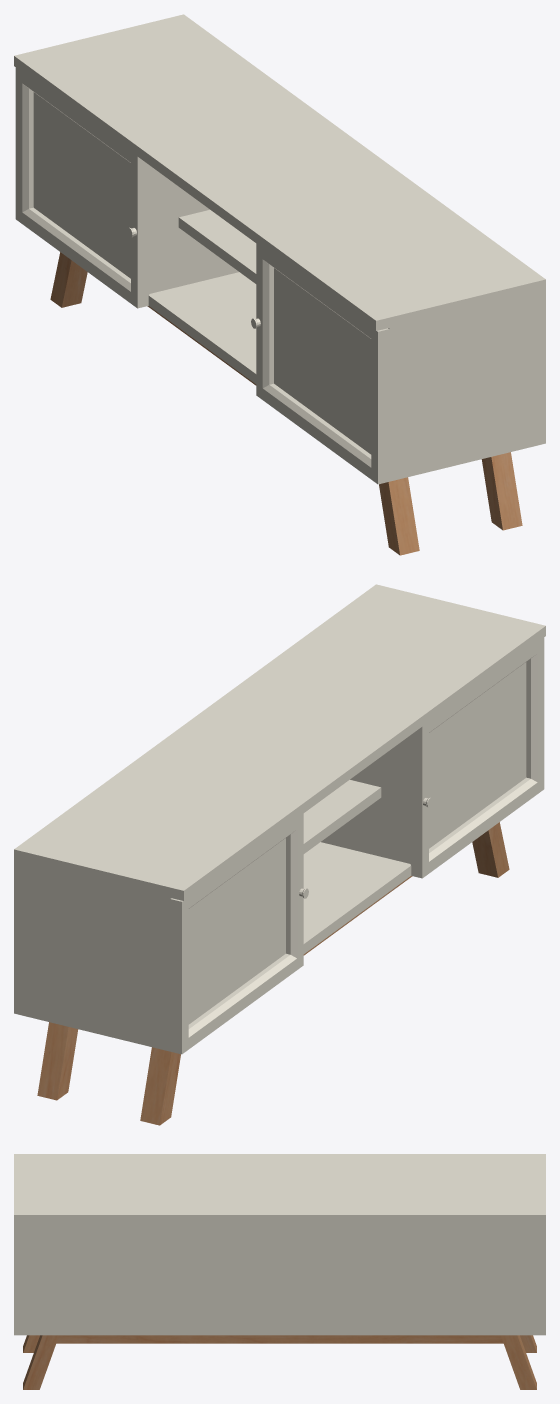
Rendered from rack.fbx.
3 views of the same model, one above another, from view 1: azimuth 30°, elevation 25°; view 2: azimuth 150°, elevation 25°; view 3: azimuth 270°, elevation 25° (orthographic). The views are drawn at different scales.
Parts seen in each view (by area): view 1: rack; view 2: rack; view 3: rack.
Part boxes in pixels (x1,y1,x2,y2): rack: [14, 14, 545, 555]; rack: [14, 584, 545, 1125]; rack: [14, 1154, 545, 1389].
Size of the model in its own units: 0.4417 by 1.6 by 0.6013.
